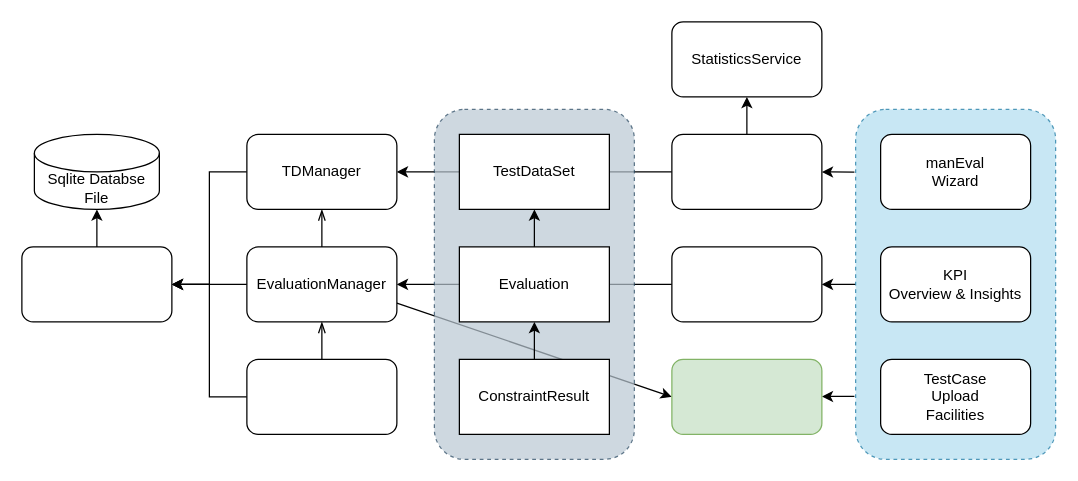
Image size: 1078x481. Some labels were removed from this diagram. The shapes that lost their labels are listed below. From the top down, each one's centre as x and y in pixels, then its label:
the point at 746,171: TDServer
the point at 96,284: DbConnection
the point at 746,284: EvalServer
the point at 321,396: CResultManager
the point at 746,396: XMLAdapter
